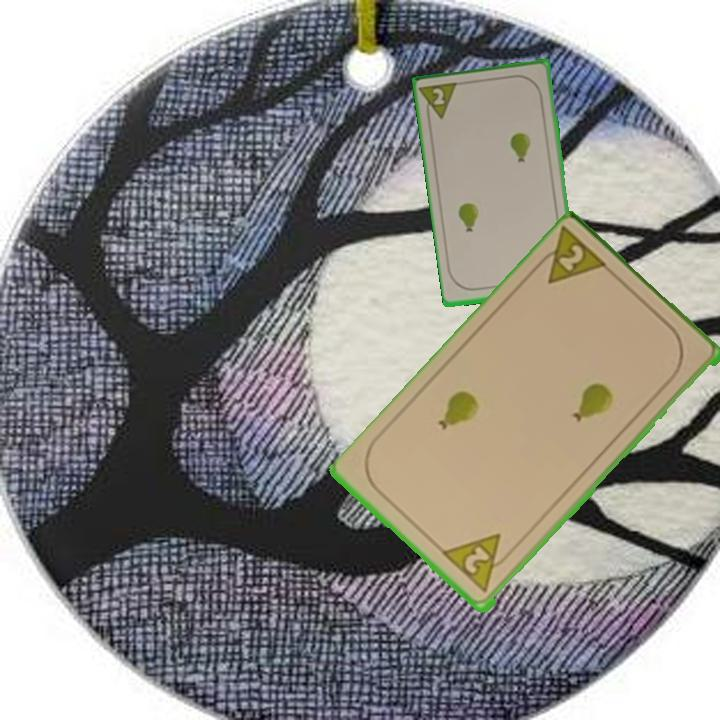2p: (529, 225, 612, 288), (440, 530, 516, 596), (417, 79, 462, 125)
